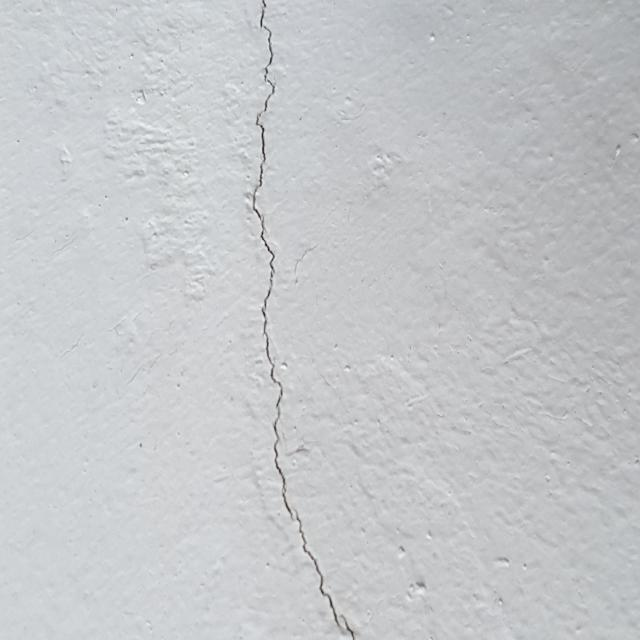SurfaceCrack: (212, 0, 380, 640)
